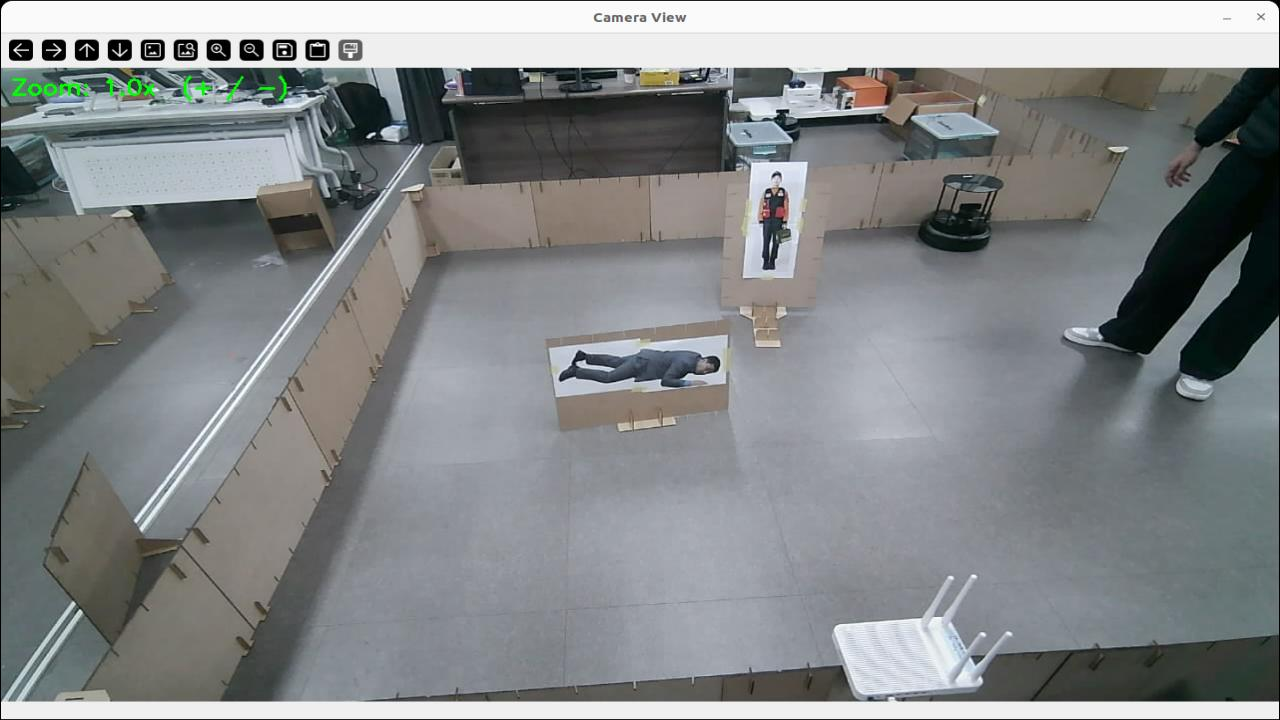Patient: (560, 349, 719, 387)
Responder: (761, 172, 788, 269)
Robot: (919, 174, 1003, 251)
